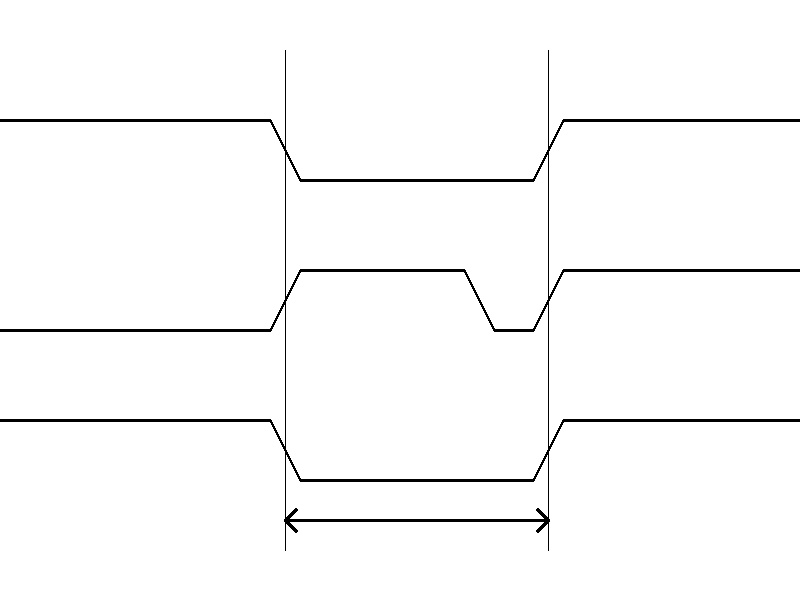double_arrow: (285, 505, 548, 535)
